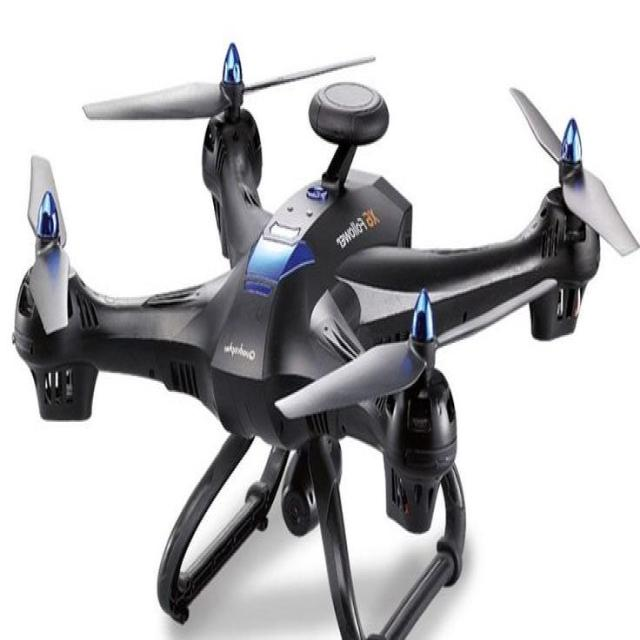drone: (12, 29, 639, 640)
